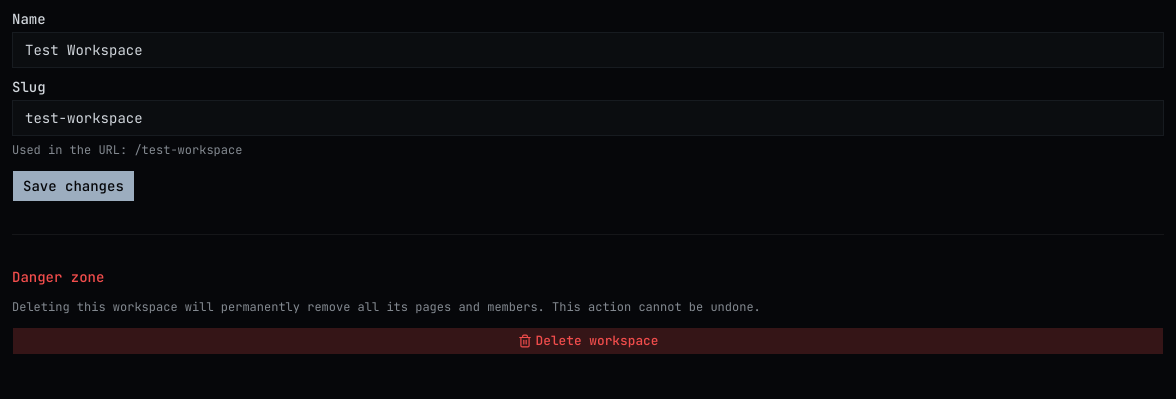
Scenario: WorkspaceSettingsForm › shows user-friendly error on non-duplicate update failure
Replace the text in the field labelled "Name" with "New Name". click: point(588, 50)
box: x1=12 y1=32 x2=1164 y2=68
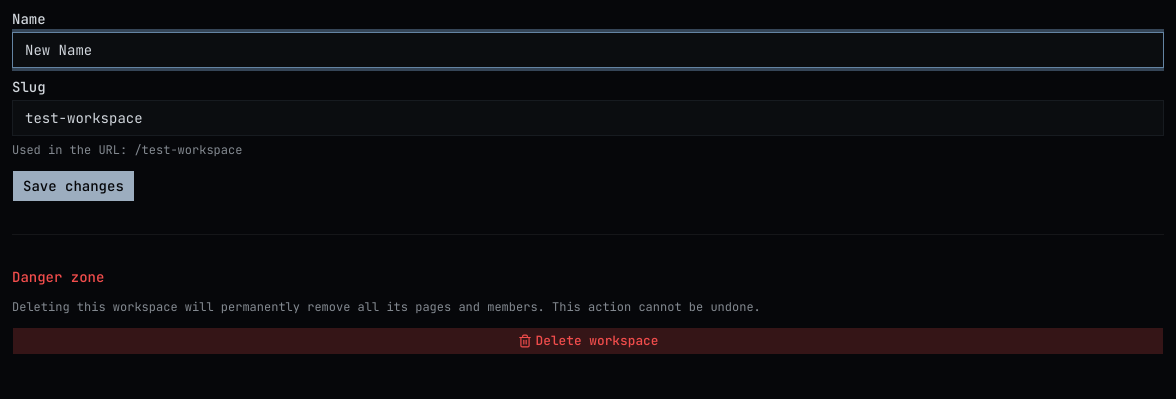
Click the button "Save changes". click: point(73, 186)
box: x1=12 y1=170 x2=135 y2=202
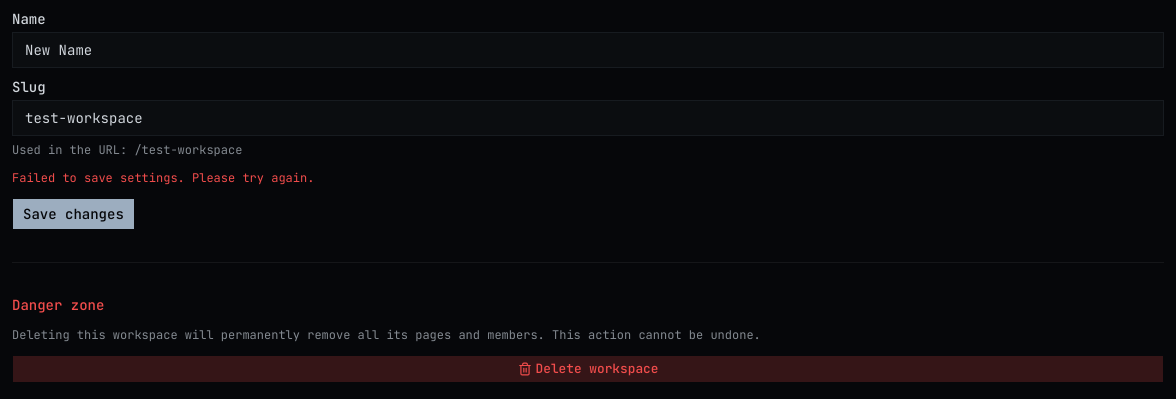
Result: the text "Failed to save settings. Please try again." is shown at x1=12 y1=170 x2=314 y2=186
